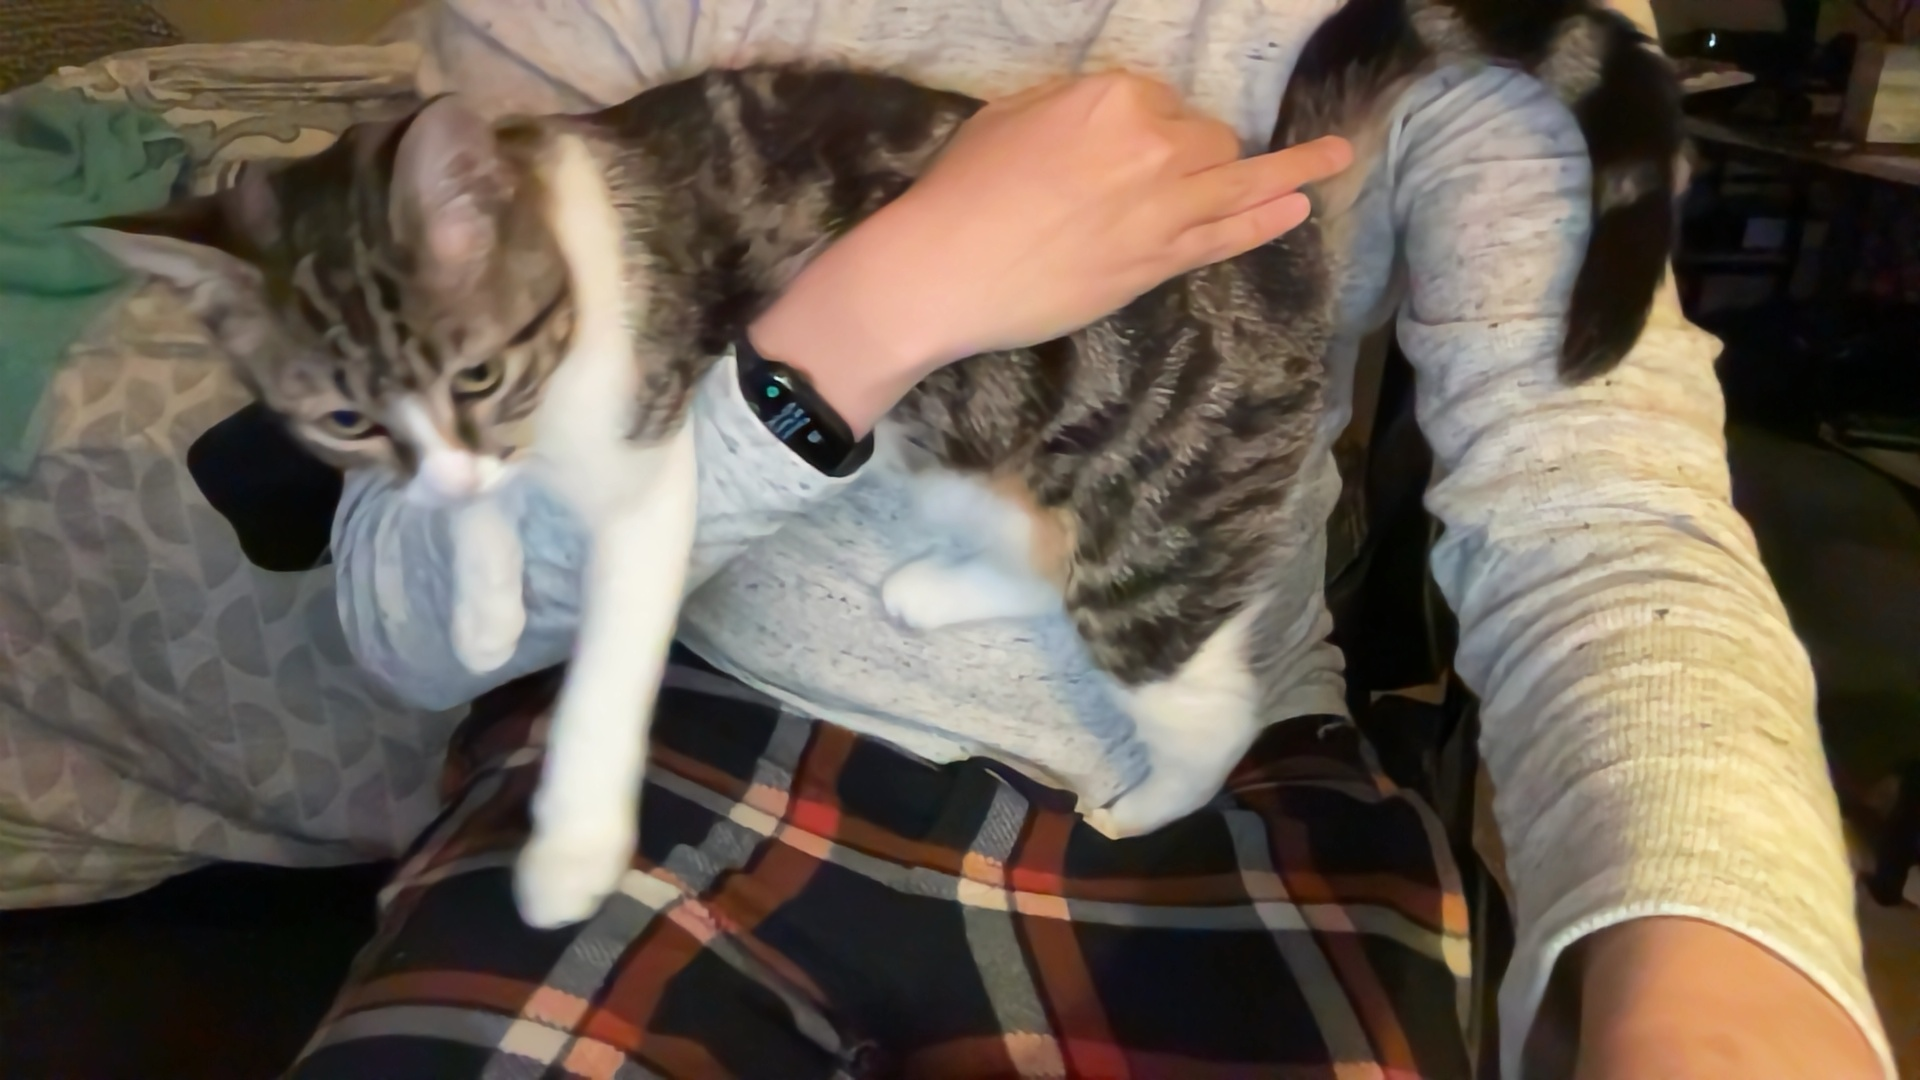cat: (83, 102, 1337, 924)
